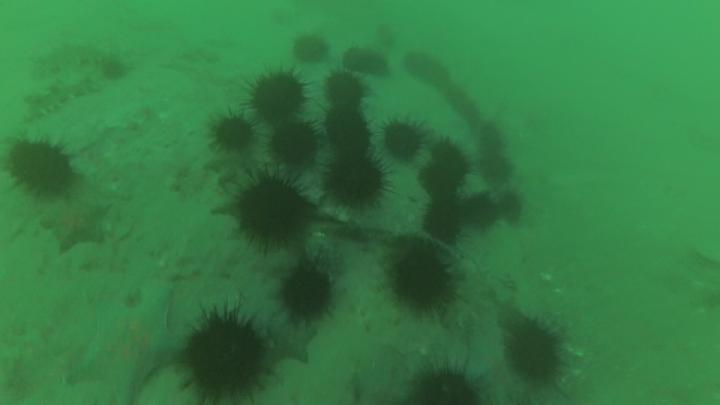echinus: (171, 295, 281, 405), (225, 169, 322, 261), (388, 240, 467, 323), (504, 310, 574, 395), (1, 133, 86, 202), (272, 257, 344, 334), (315, 152, 397, 216), (239, 61, 320, 124), (313, 105, 383, 157), (404, 360, 484, 405), (264, 113, 325, 171), (205, 103, 267, 157), (378, 114, 437, 164), (421, 194, 469, 253), (429, 135, 477, 184), (460, 187, 507, 234), (324, 70, 373, 106), (342, 44, 392, 77), (418, 166, 465, 199), (496, 186, 530, 230), (470, 121, 509, 157), (290, 29, 331, 61), (480, 152, 518, 183)
holothurian: (20, 77, 98, 127), (28, 46, 108, 72)
starfish: (67, 286, 190, 405), (42, 196, 113, 255), (270, 315, 319, 367), (465, 340, 508, 386)
